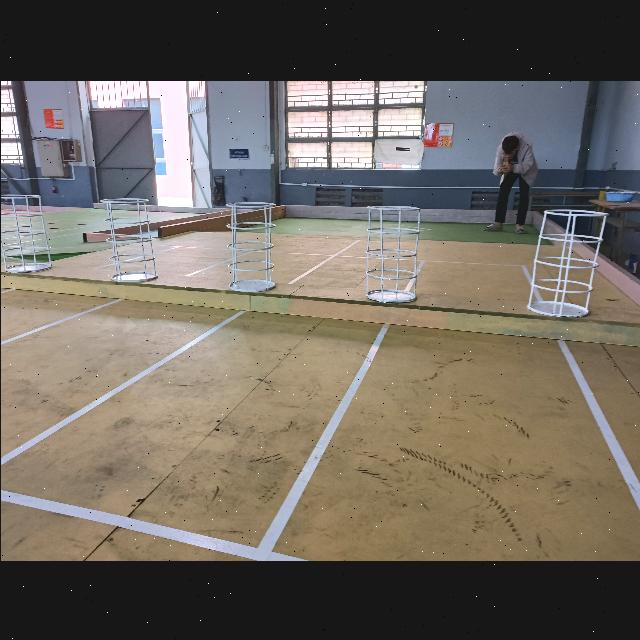S: (526, 207, 608, 317), (365, 204, 421, 302), (98, 196, 158, 282), (224, 200, 276, 291), (0, 193, 52, 274)
